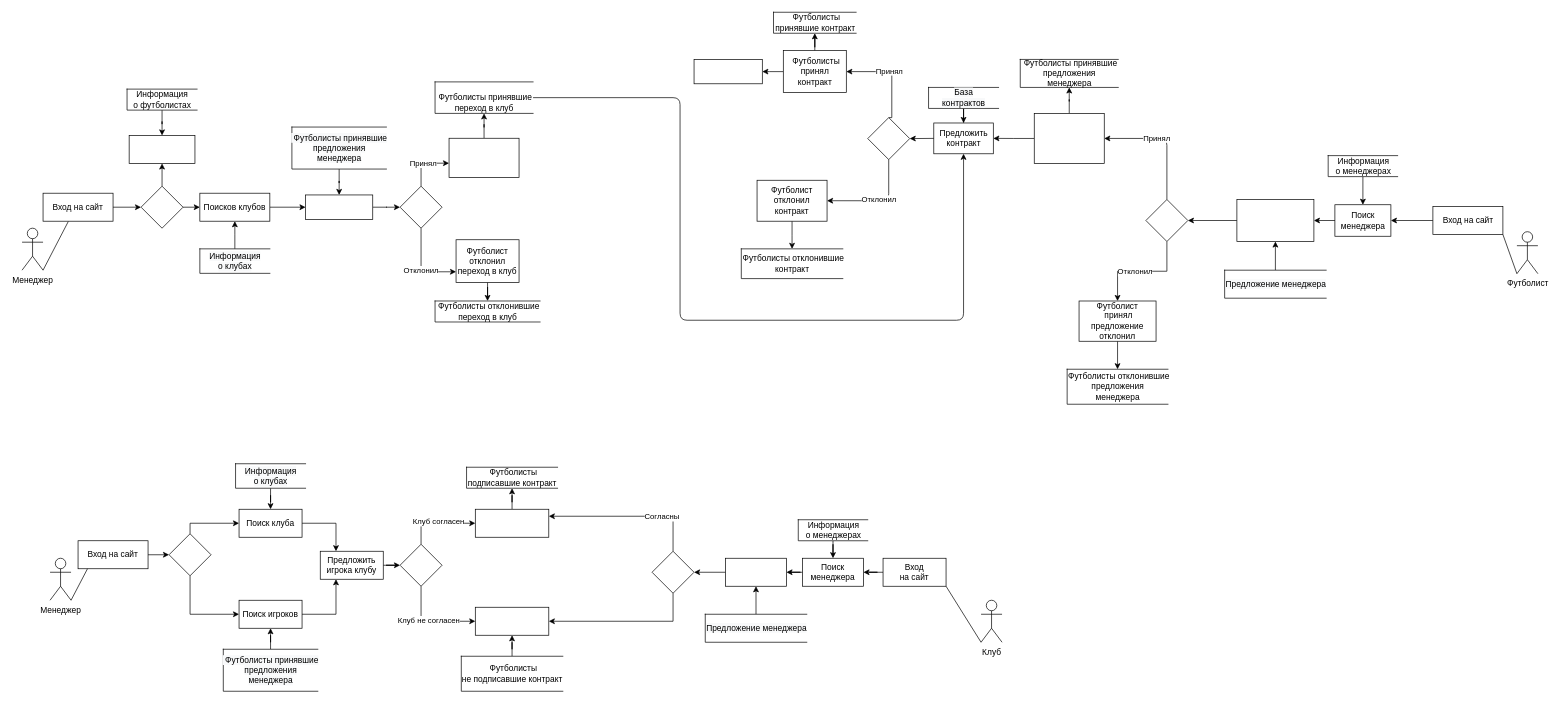
The diagram is 1560 pixels wide and 718 high, and some of its shapes have lost their labels. Here are the shapes that lost their labels. From the top down, the centre of each, then its label:
the point at 727,71: Вступление в клуб
the point at 161,149: Поиск футболиста
the point at 483,157: Футболист принял переход в клуб
the point at 1069,138: Футболист принял предложение менеджера
the point at 339,206: Переход в клуб
the point at 1275,220: Просмотр предложения менеджера о клубах
the point at 512,523: Клуб подписал футболиста
the point at 755,572: Подписать игрока
the point at 512,621: Клуб не подписал футболиста
